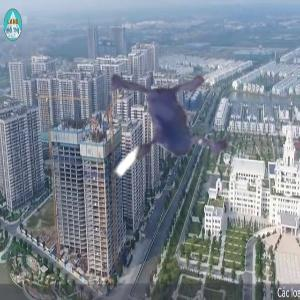drone: (38, 31, 253, 246)
